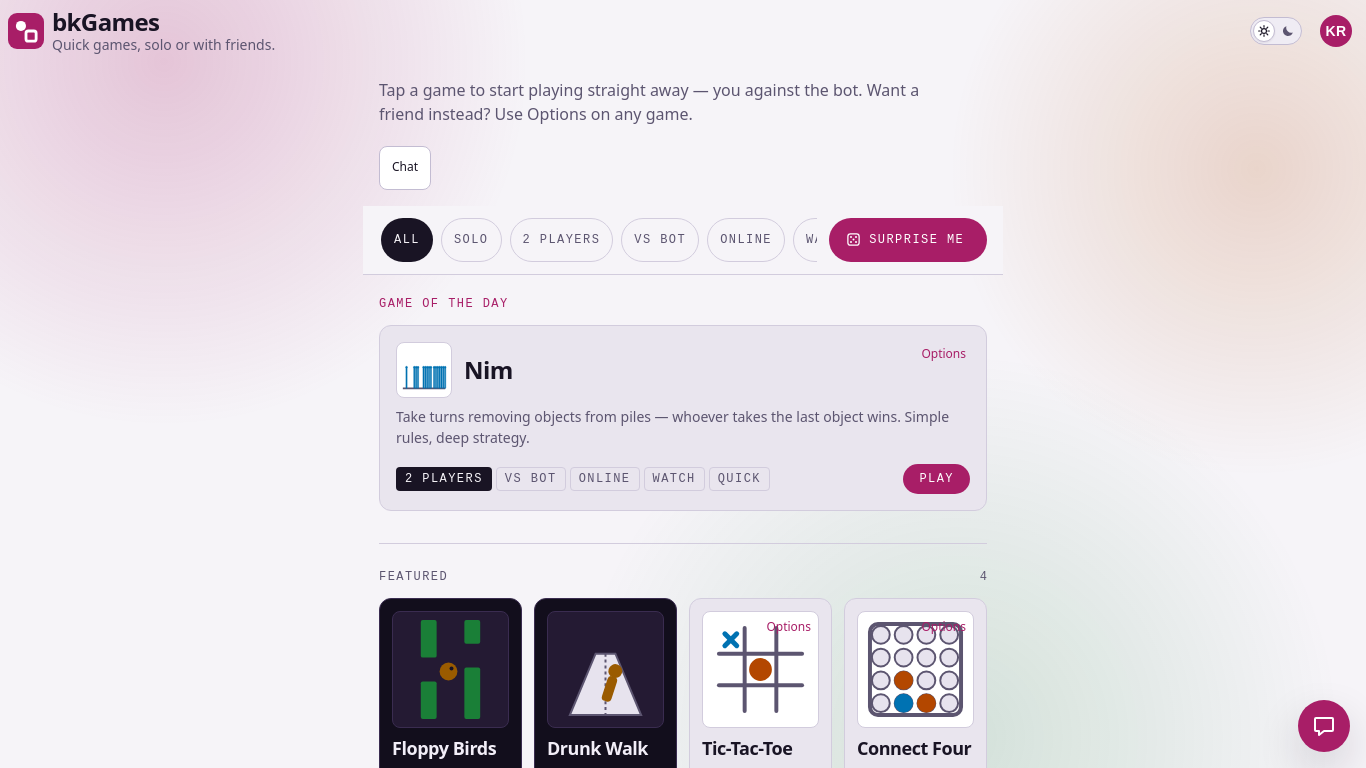
Scenario: App › Options on a card opens Setup instead of quick-starting
Click the button with aria-label "Options for Tic-Tac-Toe" at (789, 628), box [753,606,824,650]
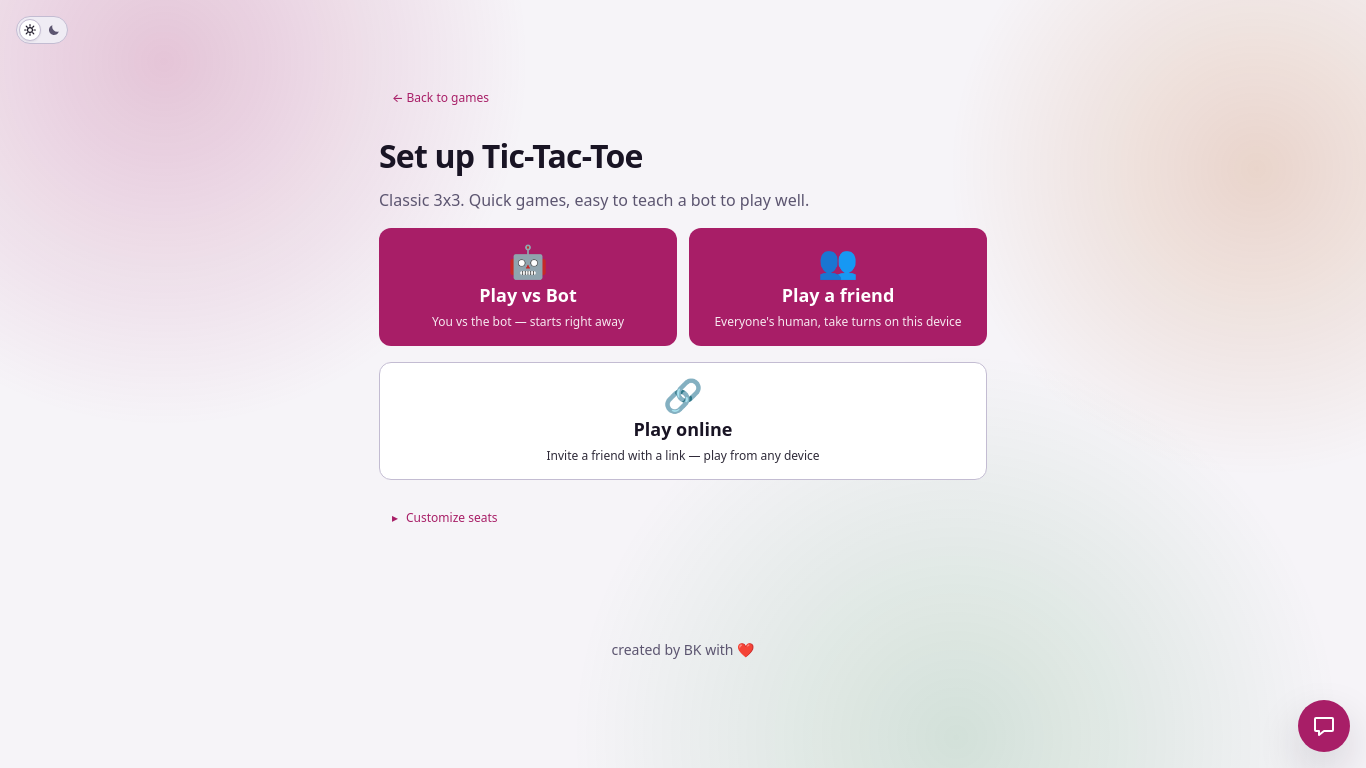
expect the button "🤖 Play vs Bot You vs the bot — starts right away" is shown: met, box [379,228,677,346]
